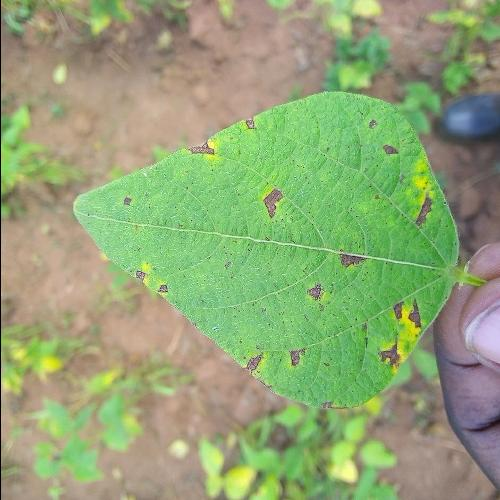hawar: (140, 0, 500, 395)
